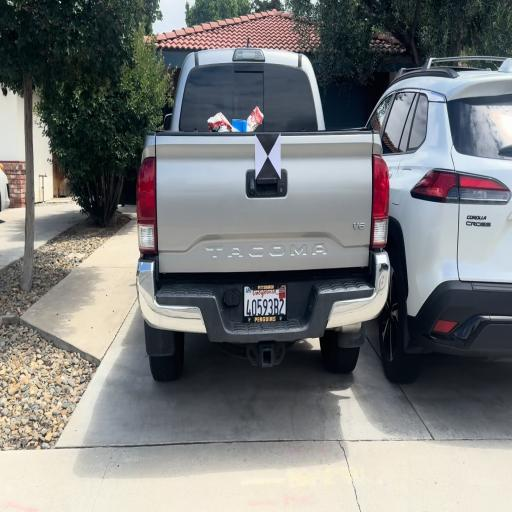target: (255, 134, 281, 180)
